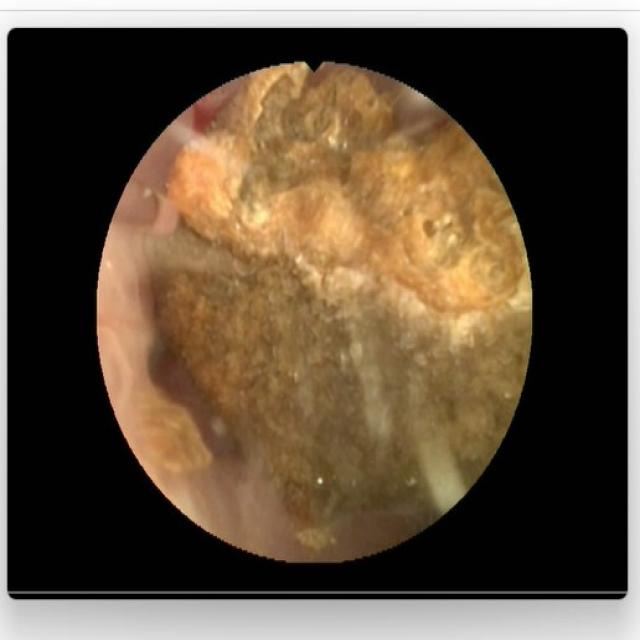stone: (152, 69, 527, 547), (137, 397, 207, 474)
